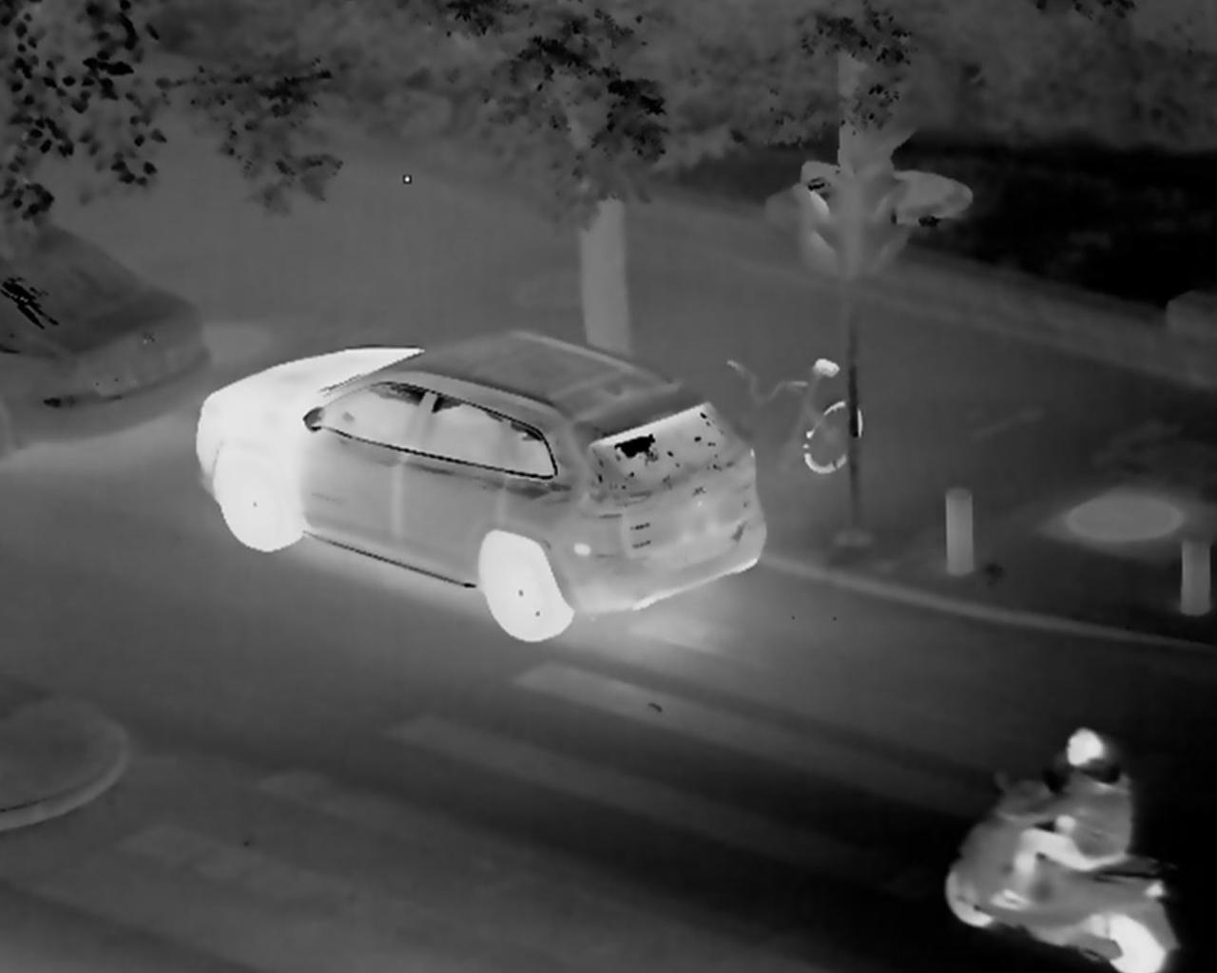person: (995, 728, 1133, 933)
